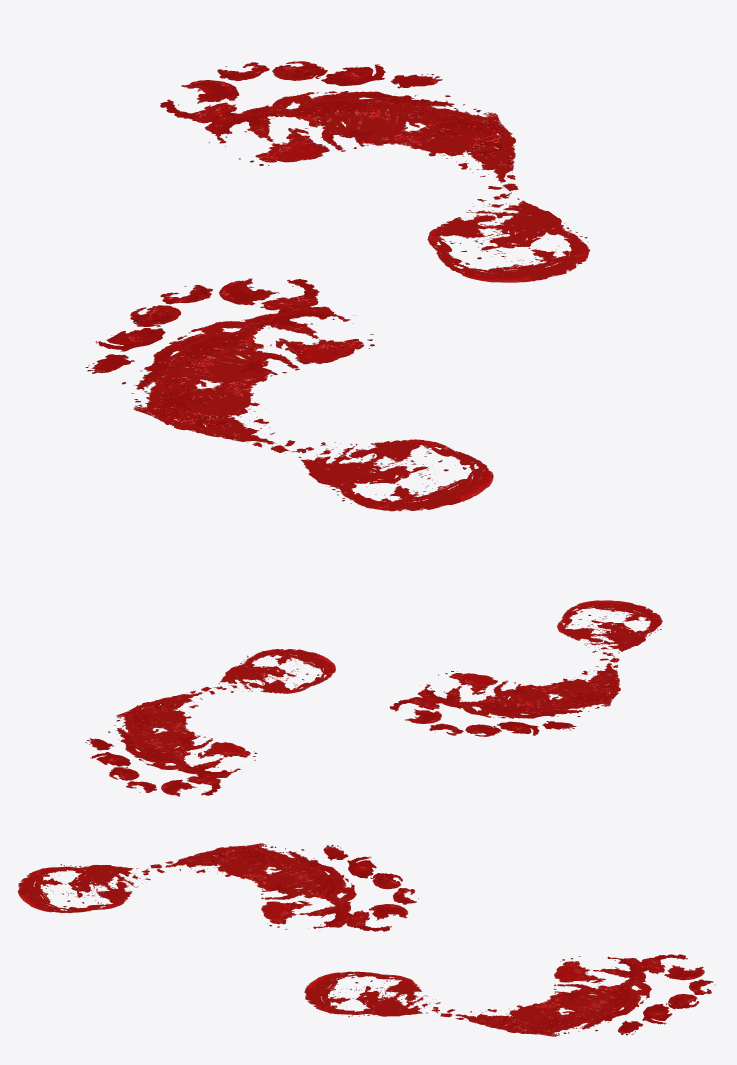
The model's file is pied_sang.fbx.
3 views of the same model, one above another, from view 1: azimuth 30°, elevation 25°; view 2: azimuth 150°, elevation 25°; view 3: azimuth 270°, elevation 25° (orthographic). The views are drawn at different scales.
Parts seen in each view (by area): view 1: pasted__pied02, pasted__pied01; view 2: pasted__pied02, pasted__pied01; view 3: pasted__pied02, pasted__pied01.
Boxes of the visible parts, <box> form: pasted__pied02: <box>85,278,493,511</box>; pasted__pied01: <box>160,61,590,282</box>; pasted__pied02: <box>389,600,662,736</box>; pasted__pied01: <box>85,649,335,796</box>; pasted__pied02: <box>17,843,418,931</box>; pasted__pied01: <box>304,954,715,1036</box>.
Bounding box in the file's own units: 35.41 × 8.19e-15 × 51.04.
Materials: 2 (2 with a texture image).
